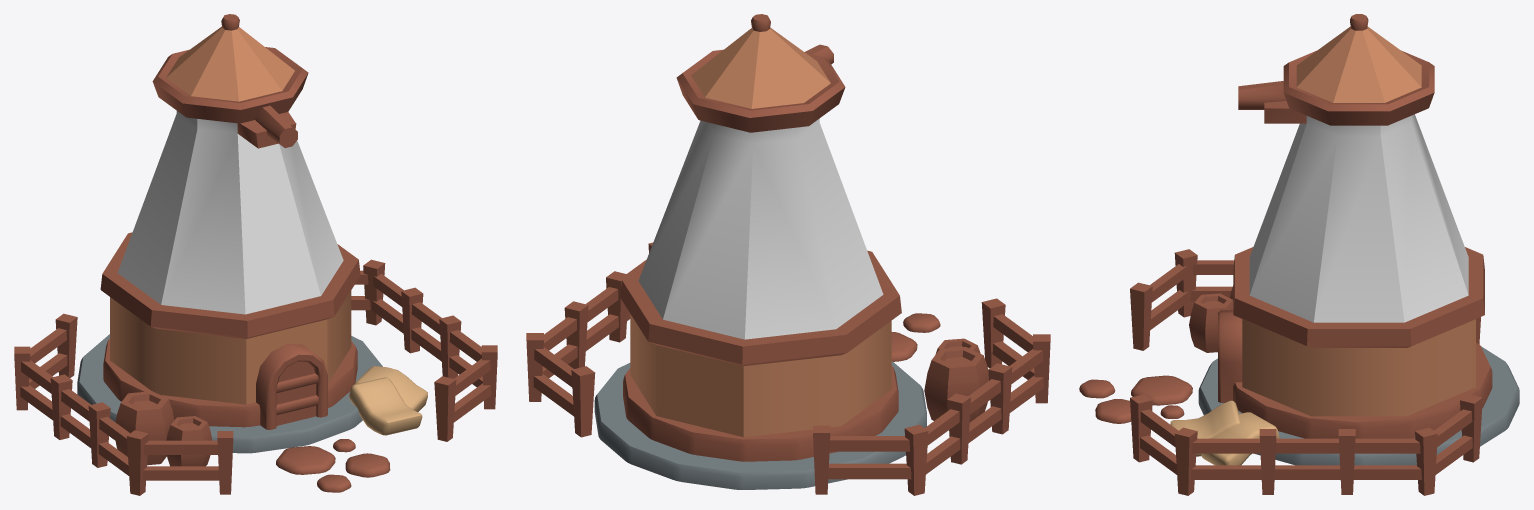
The model's file is mill.dae.
The picture shows the model from 3 angles, left to right: view 1: azimuth 30°, elevation 25°; view 2: azimuth 150°, elevation 25°; view 3: azimuth 270°, elevation 25°; orthographic projection. The views are drawn at different scales.
Visible parts, largest first — view 1: mill; view 2: mill; view 3: mill.
Part boxes in pixels (x1,y1,x2,y2): mill: [14, 14, 497, 495]; mill: [526, 14, 1050, 495]; mill: [1079, 14, 1519, 495].
Size of the model in its own units: 1.69 by 1.67 by 1.63.
